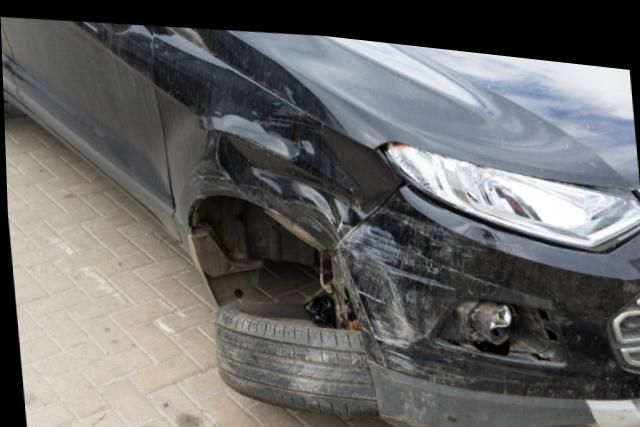dent: (202, 94, 357, 234)
dislocated part: (211, 208, 377, 410)
scratch: (349, 199, 470, 363)
